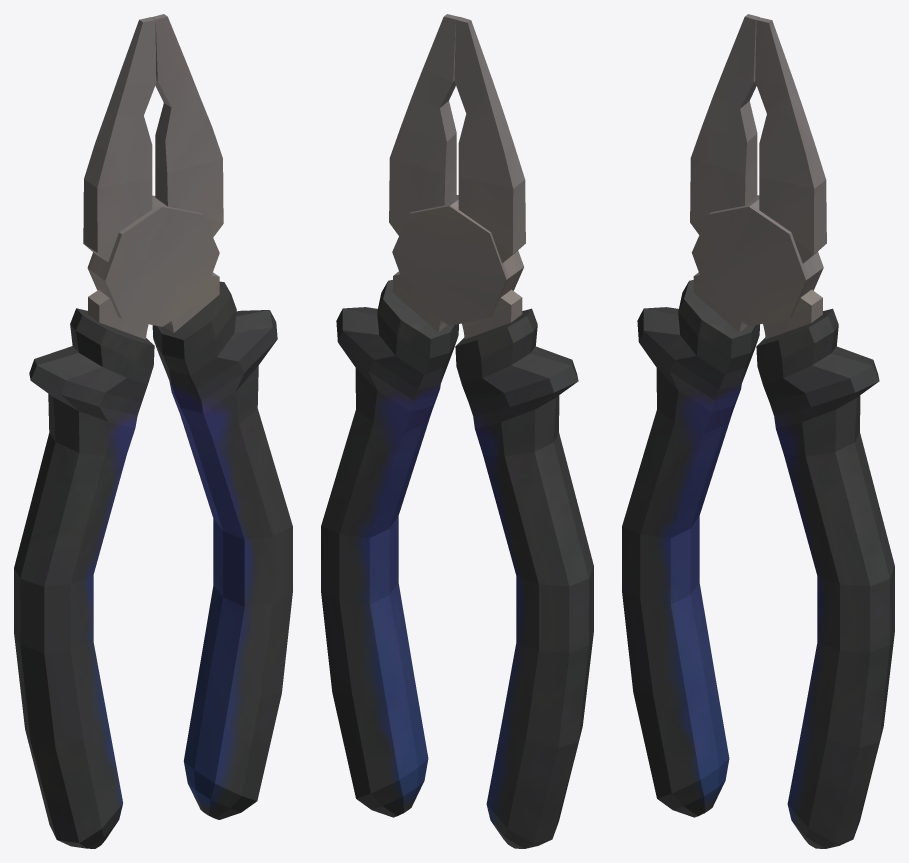
Rendered from PruningShears.fbx.
3 views of the same model, side by side, from view 1: azimuth 30°, elevation 25°; view 2: azimuth 150°, elevation 25°; view 3: azimuth 330°, elevation 25° (orthographic).
Visible parts, largest first — view 1: F_pincers1; view 2: F_pincers1; view 3: F_pincers1.
Part boxes in pixels (x1,y1,x2,y2): F_pincers1: (14, 14, 292, 848); F_pincers1: (321, 14, 593, 848); F_pincers1: (622, 14, 894, 848).
Bounding box in the file's own units: 0.1399 × 0.4113 × 0.0349.
